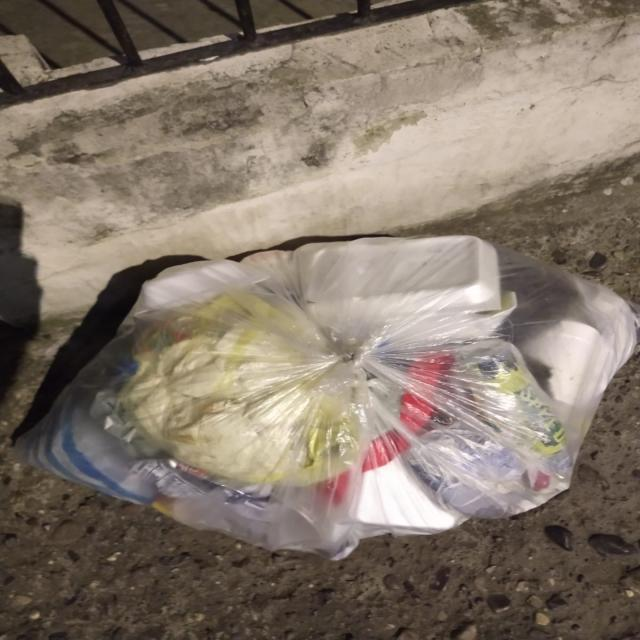Garbage_Bag: (9, 222, 640, 560)
